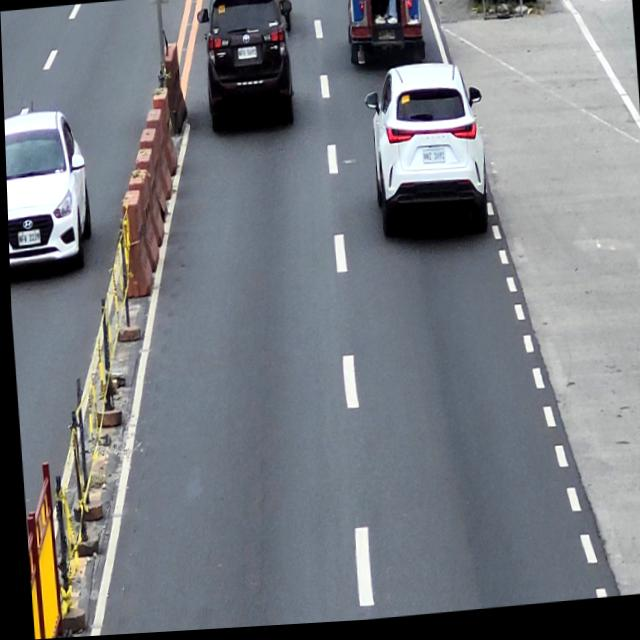Car: (362, 63, 490, 250), (3, 108, 94, 279), (195, 0, 299, 138)
Jeep: (344, 0, 426, 70)
License-Plate: (420, 153, 444, 170), (15, 230, 39, 245), (237, 48, 256, 63), (377, 34, 396, 46)
